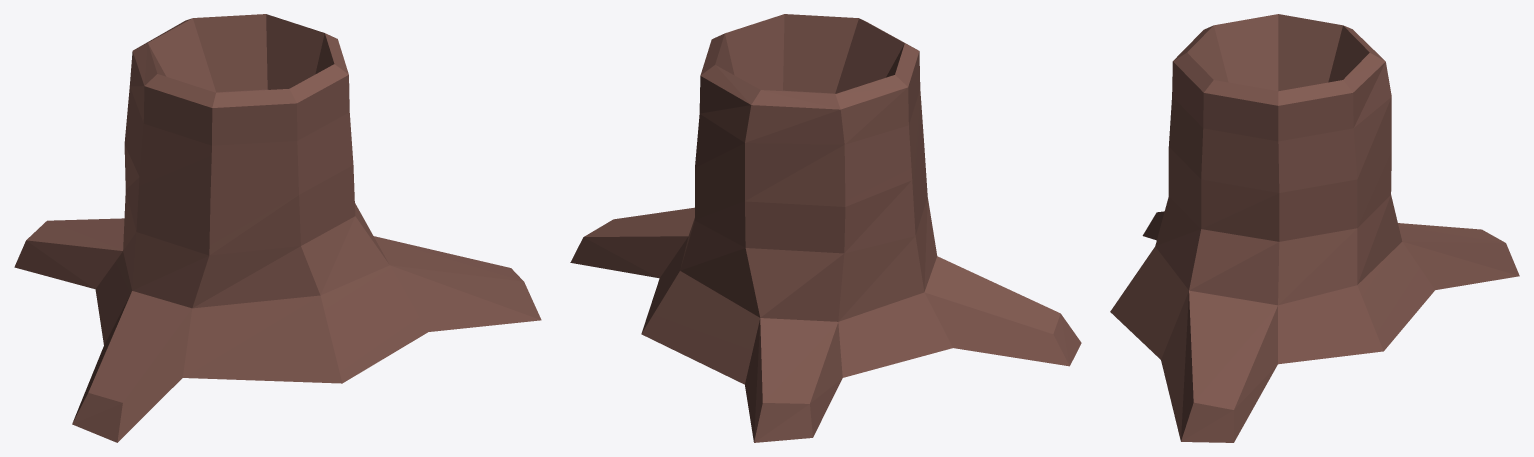
File: logTree.fbx
3 views of the same model, side by side, from view 1: azimuth 30°, elevation 25°; view 2: azimuth 150°, elevation 25°; view 3: azimuth 270°, elevation 25° (orthographic). The views are drawn at different scales.
Parts seen in each view (by area): view 1: Cylinder001; view 2: Cylinder001; view 3: Cylinder001.
Part boxes in pixels (x1,y1,x2,y2): Cylinder001: (14, 14, 541, 442); Cylinder001: (570, 14, 1081, 442); Cylinder001: (1110, 14, 1519, 442).
Bounding box in the file's own units: 98.8 × 58.01 × 78.53.
